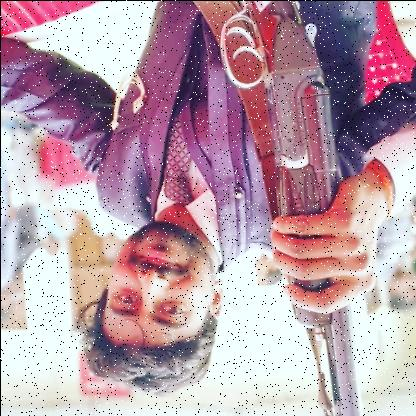rifle: (192, 1, 360, 416)
